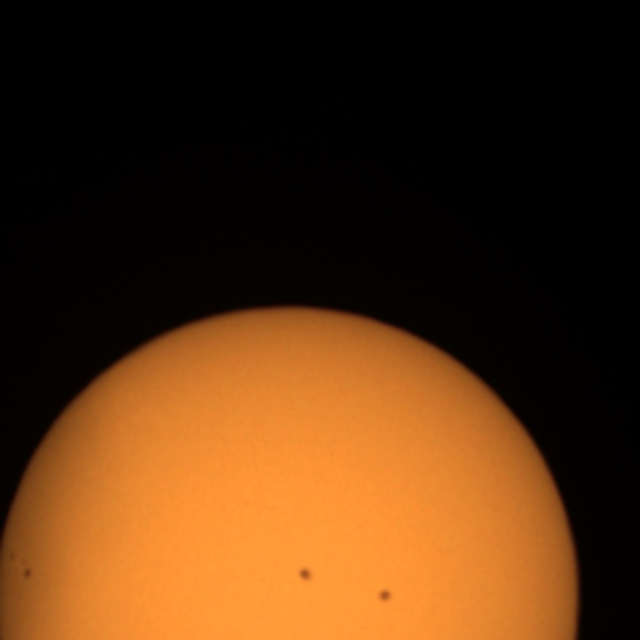sunspot: (7, 549, 34, 582), (295, 564, 316, 586), (374, 586, 396, 606), (21, 566, 34, 582)
